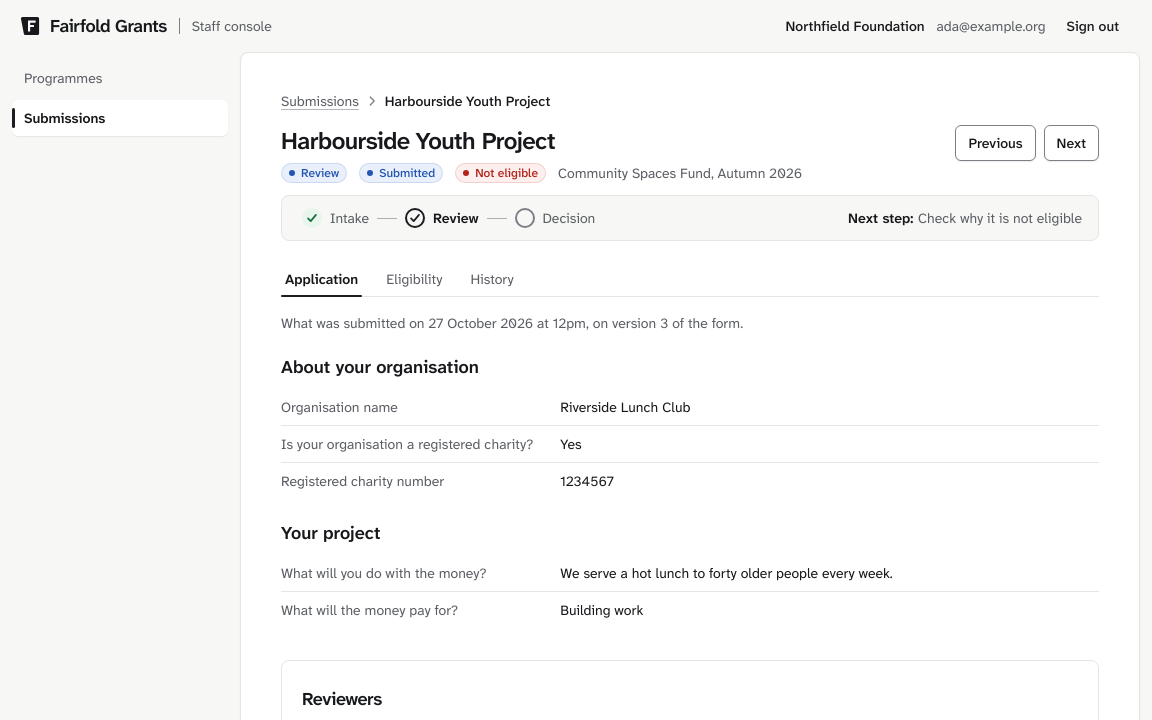
Test case: a submission › shows each eligibility check with its date, and the question that stopped the applicant
Expected: the panel named "Application" is shown, 281,297 -> 1099,628
Click the tab "Eligibility".
click(414, 279)  # box 382,261 -> 446,297
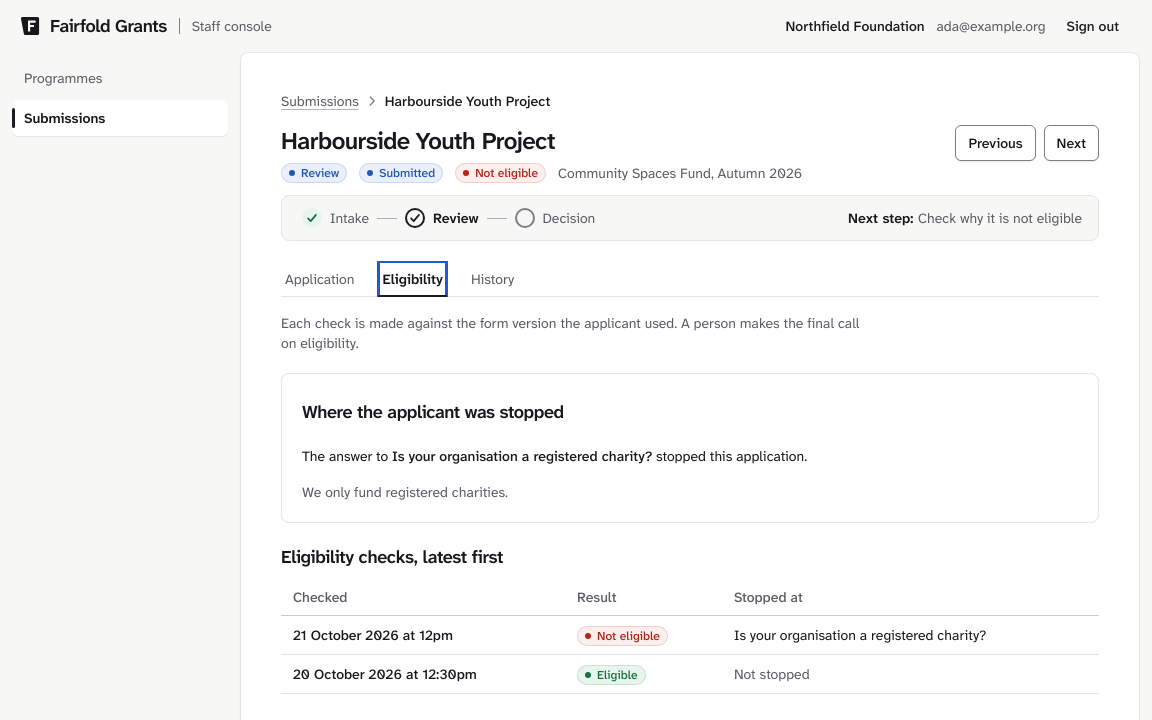
Expected: the text "Is your organisation a registered charity?" next to "The answer to" is shown, 392,447 -> 652,465
Expected: the text "We only fund registered charities." is shown, 302,483 -> 508,501
Expected: the column heading "21 October 2026 at 12pm" is shown, 281,616 -> 565,654
